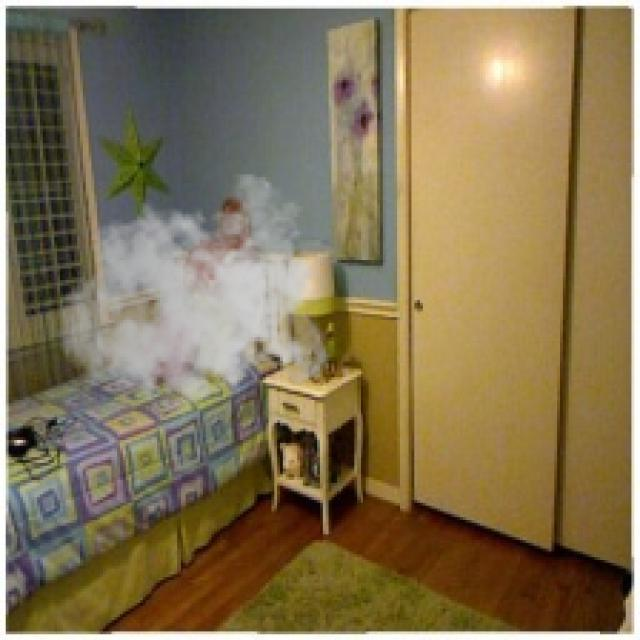Smoke: (57, 174, 334, 429)
